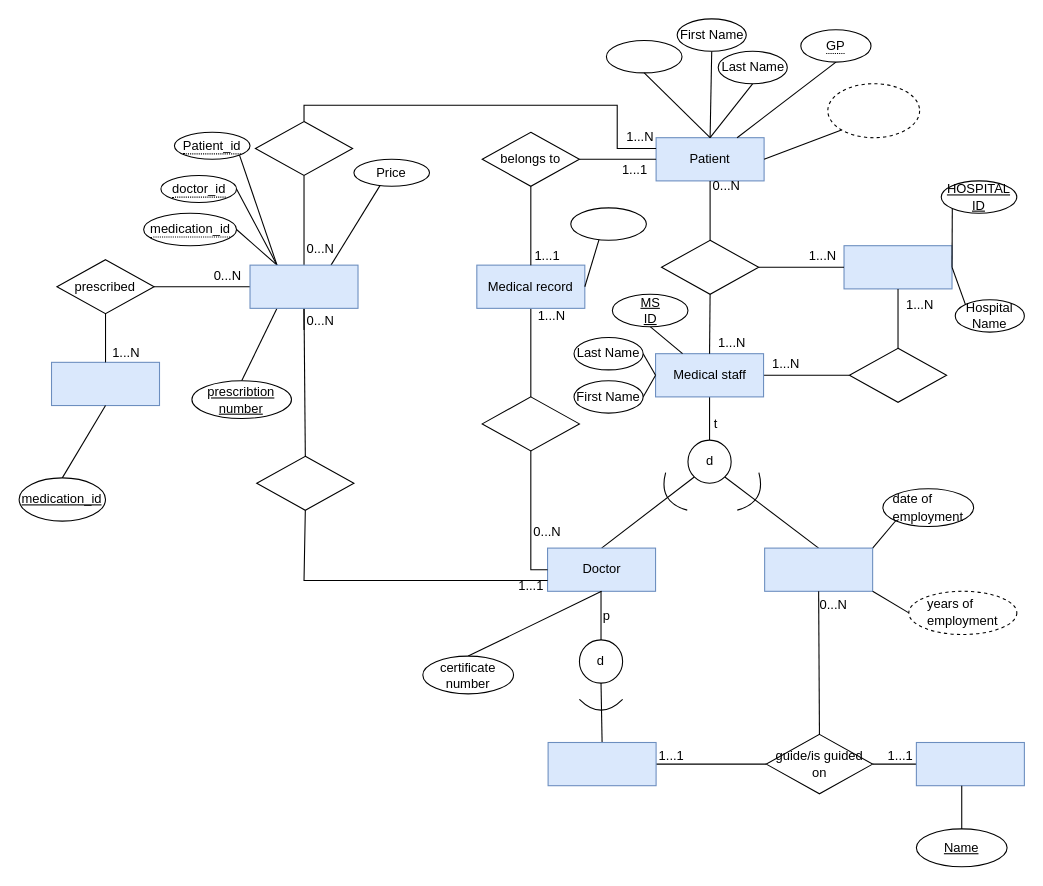
This 1043x886 diagram has some shape labels left out. Here are the shapes that lost their labels. From the top down, the box of each, then its label:
(605, 39, 682, 73): P_ID
(827, 83, 920, 138): medication average price
(254, 120, 353, 176): presribed to
(570, 207, 646, 240): ID
(249, 264, 358, 308): Prescribtion
(660, 239, 759, 294): examinated
(843, 245, 952, 289): Hospital
(50, 361, 160, 406): Medication
(848, 347, 947, 402): worksin
(481, 396, 579, 451): access
(256, 455, 354, 510): prescribe
(764, 547, 873, 591): Assistant
(547, 741, 656, 786): Professor
(915, 741, 1024, 786): University
